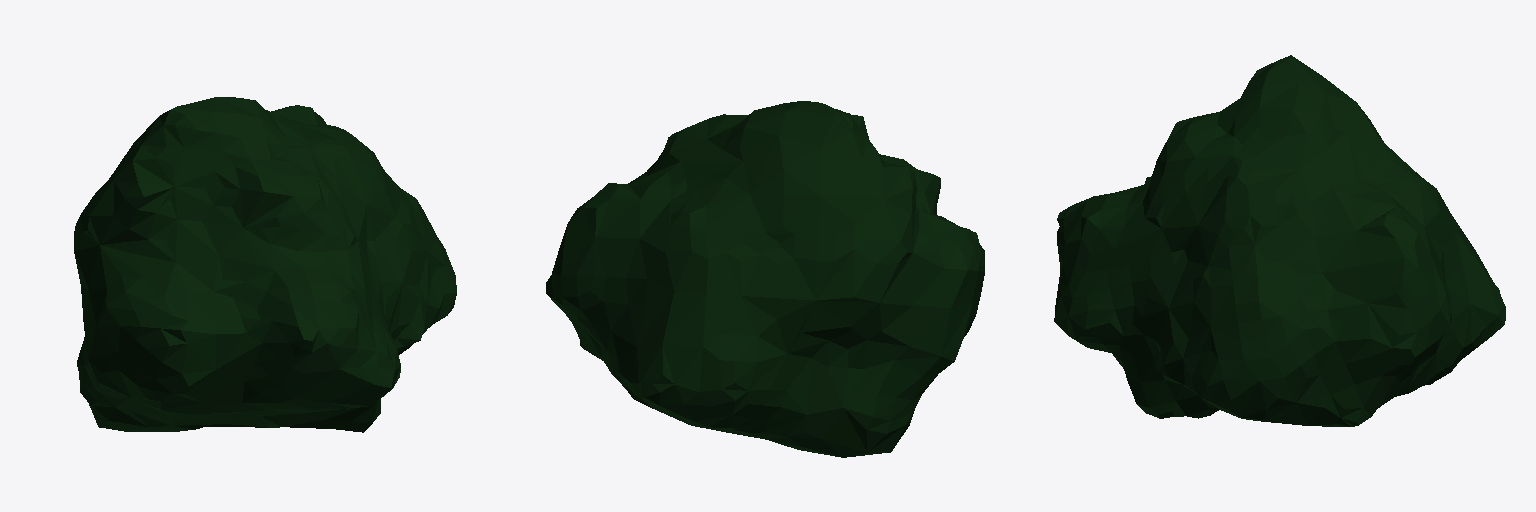
File: Brush.obj
3 views of the same model, side by side, from view 1: azimuth 30°, elevation 25°; view 2: azimuth 150°, elevation 25°; view 3: azimuth 270°, elevation 25° (orthographic).
Visible parts, largest first — view 1: Cylinder.012_Cylinder.041; view 2: Cylinder.012_Cylinder.041; view 3: Cylinder.012_Cylinder.041.
Part boxes in pixels (x1,y1,x2,y2): Cylinder.012_Cylinder.041: (74, 97, 456, 432); Cylinder.012_Cylinder.041: (546, 101, 984, 457); Cylinder.012_Cylinder.041: (1054, 55, 1505, 426).
Bounding box in the file's own units: 2.2 × 1.95 × 2.46.